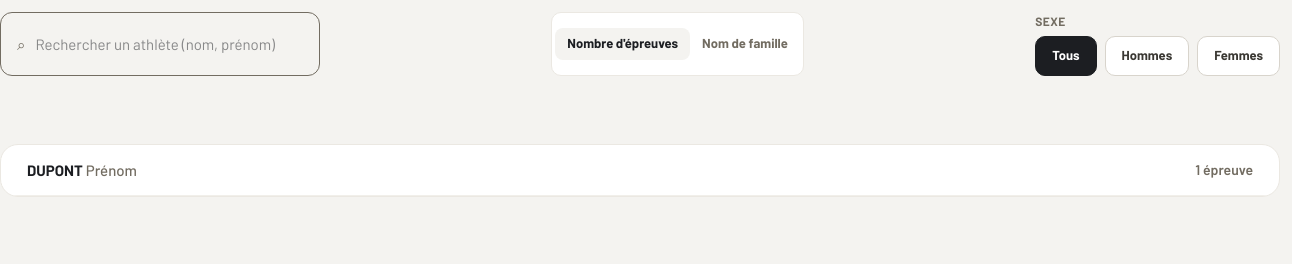
AthleteSeasonList › aucun résultat de recherche : invite à réessayer, pas un constat nu (revue ui-ux #382)
The width and height of the screenshot is (1292, 264).
In the search field with placeholder "Rechercher un athlète (nom, prénom)": (169, 44) [35,32,303,55], type "zzz"
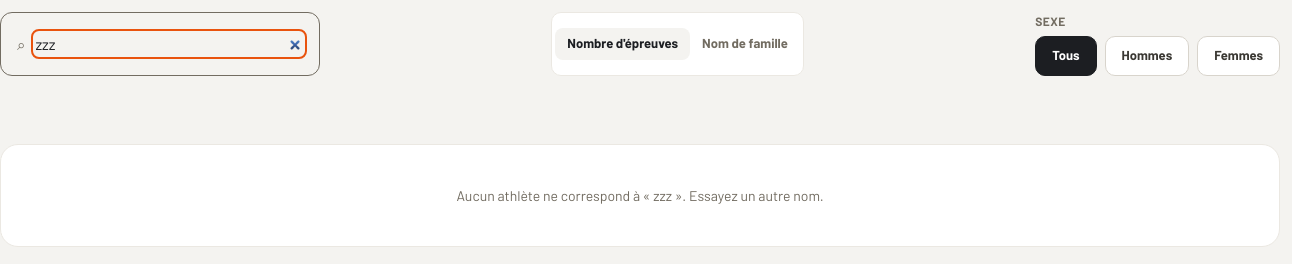
Expected: the text "Aucun athlète ne correspond à « zzz ». Essayez un autre nom." is shown, [456,186,824,204]
